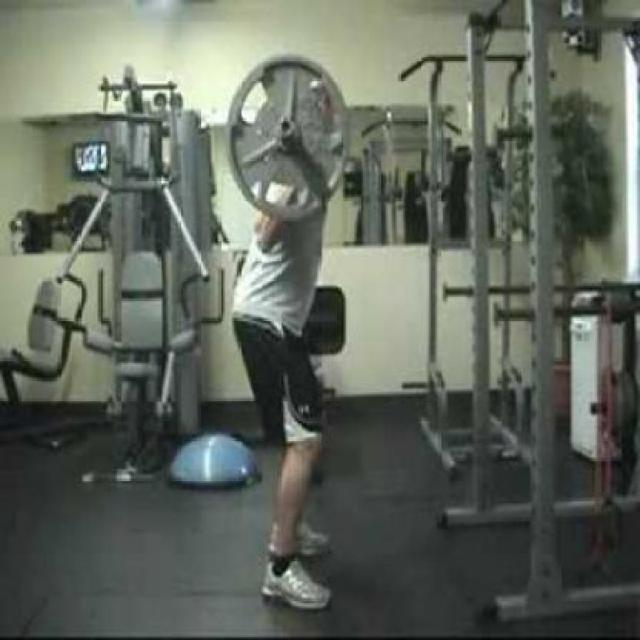barbell: (226, 47, 360, 230)
